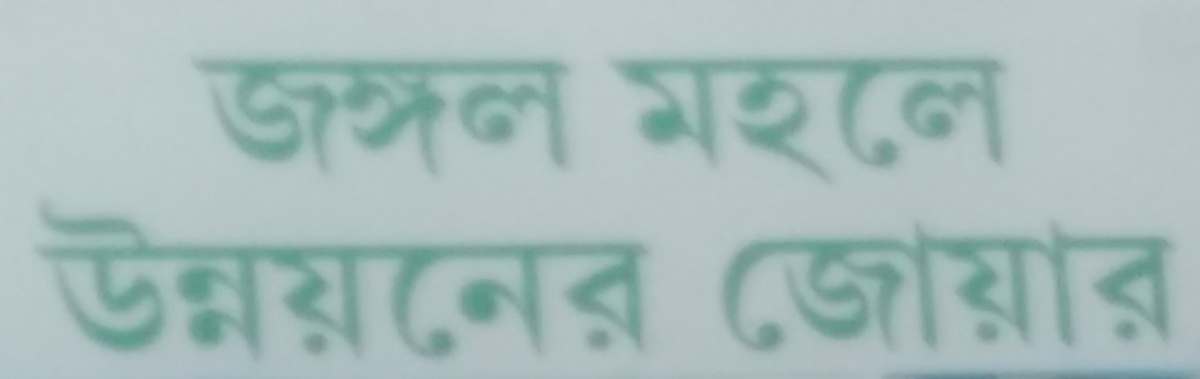text: (33, 193, 48, 365), (49, 193, 64, 365), (65, 193, 80, 365), (81, 193, 96, 365), (97, 193, 112, 365), (113, 193, 128, 365), (129, 193, 144, 365), (145, 193, 160, 365), (161, 193, 176, 365), (177, 193, 192, 365), (193, 193, 208, 365), (209, 193, 224, 365), (225, 193, 240, 365), (241, 193, 256, 365), (257, 193, 272, 365), (273, 193, 288, 365), (289, 193, 304, 365), (305, 193, 320, 365), (321, 193, 336, 365), (337, 193, 352, 365), (353, 193, 368, 365), (369, 193, 384, 365), (385, 193, 400, 365), (401, 193, 416, 365), (417, 193, 432, 365), (433, 193, 448, 365), (449, 193, 464, 365), (465, 193, 480, 365), (481, 193, 496, 365), (497, 193, 512, 365), (513, 193, 528, 365), (529, 193, 544, 365), (545, 193, 560, 365), (561, 193, 576, 365), (577, 193, 592, 365), (593, 193, 608, 365), (609, 193, 624, 365), (625, 193, 640, 365), (641, 193, 654, 365), (193, 51, 208, 194), (209, 51, 224, 194), (225, 51, 240, 194), (241, 51, 256, 194), (257, 51, 272, 194), (273, 51, 288, 194), (289, 51, 304, 194), (305, 51, 320, 194), (321, 51, 336, 194), (337, 51, 352, 194), (353, 51, 368, 194), (369, 51, 384, 194), (385, 51, 400, 194), (401, 51, 416, 194), (417, 51, 432, 194), (433, 51, 448, 194), (449, 51, 464, 194), (465, 51, 480, 194), (481, 51, 496, 194), (497, 51, 512, 194), (513, 51, 528, 194), (529, 51, 544, 194), (545, 51, 560, 194), (561, 51, 576, 194), (721, 214, 736, 356), (737, 214, 752, 356), (753, 214, 768, 356), (769, 214, 784, 356), (785, 214, 800, 356), (801, 214, 816, 356), (817, 214, 832, 356), (833, 214, 848, 356), (849, 214, 864, 356), (865, 214, 880, 356), (881, 214, 896, 356), (897, 214, 912, 356), (913, 214, 928, 356), (929, 214, 944, 356), (945, 214, 960, 356), (961, 214, 976, 356), (977, 214, 992, 356), (993, 214, 1008, 356), (1009, 214, 1024, 356), (1025, 214, 1040, 356), (1041, 214, 1056, 356), (1057, 214, 1072, 356), (1073, 214, 1088, 356), (1089, 214, 1104, 356), (1105, 214, 1120, 356), (1121, 214, 1136, 356), (1137, 214, 1152, 356), (1153, 214, 1168, 356), (609, 57, 624, 197), (625, 57, 640, 197), (641, 57, 656, 197), (657, 57, 672, 197), (673, 57, 688, 197), (689, 57, 704, 197), (705, 57, 720, 197), (721, 57, 736, 197), (737, 57, 752, 197), (753, 57, 768, 197), (769, 57, 784, 197), (785, 57, 800, 197), (801, 57, 816, 197), (817, 57, 832, 197), (833, 57, 848, 197), (849, 57, 864, 197), (865, 57, 880, 197), (881, 57, 896, 197), (897, 57, 912, 197), (913, 57, 928, 197), (929, 57, 944, 197), (945, 57, 960, 197), (961, 57, 976, 197), (977, 57, 992, 197), (993, 57, 1008, 197), (21, 193, 32, 365), (1169, 214, 1179, 356), (712, 214, 720, 356), (186, 51, 192, 194), (577, 51, 578, 194), (607, 57, 608, 197)
